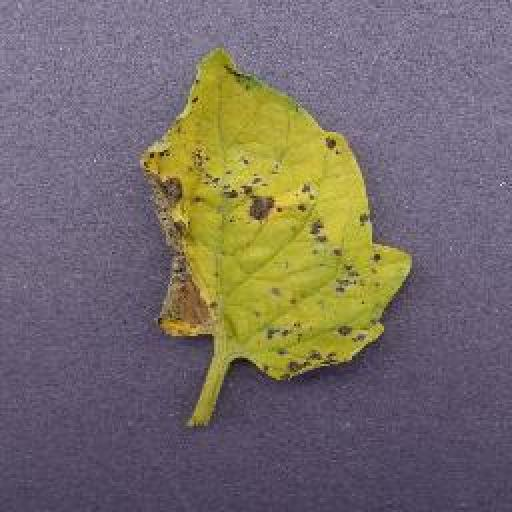disease_tomato: (146, 43, 412, 377)
